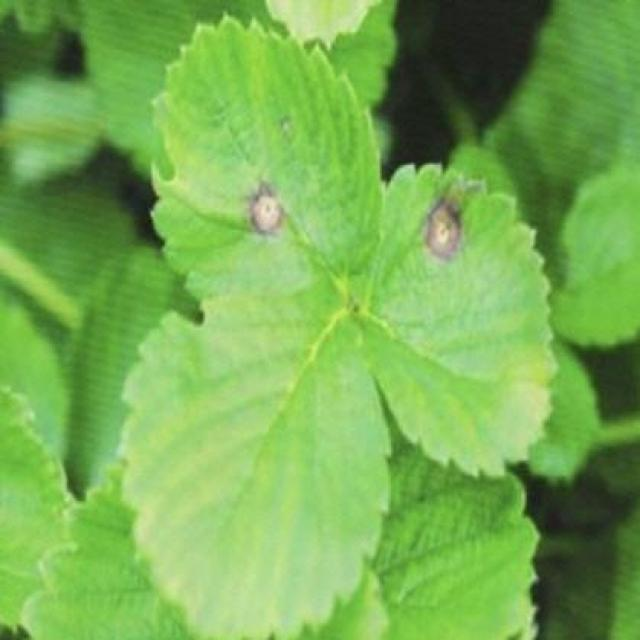Leaf Spot: (148, 13, 385, 307), (361, 160, 561, 481)
